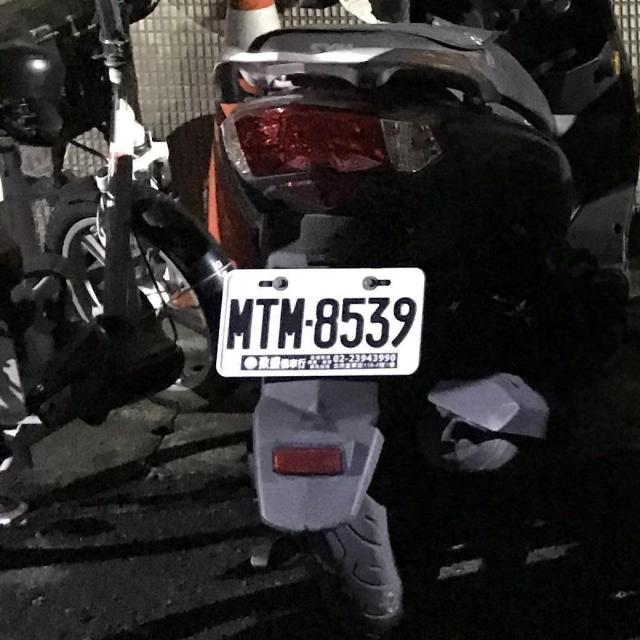W: (214, 262, 428, 384)
